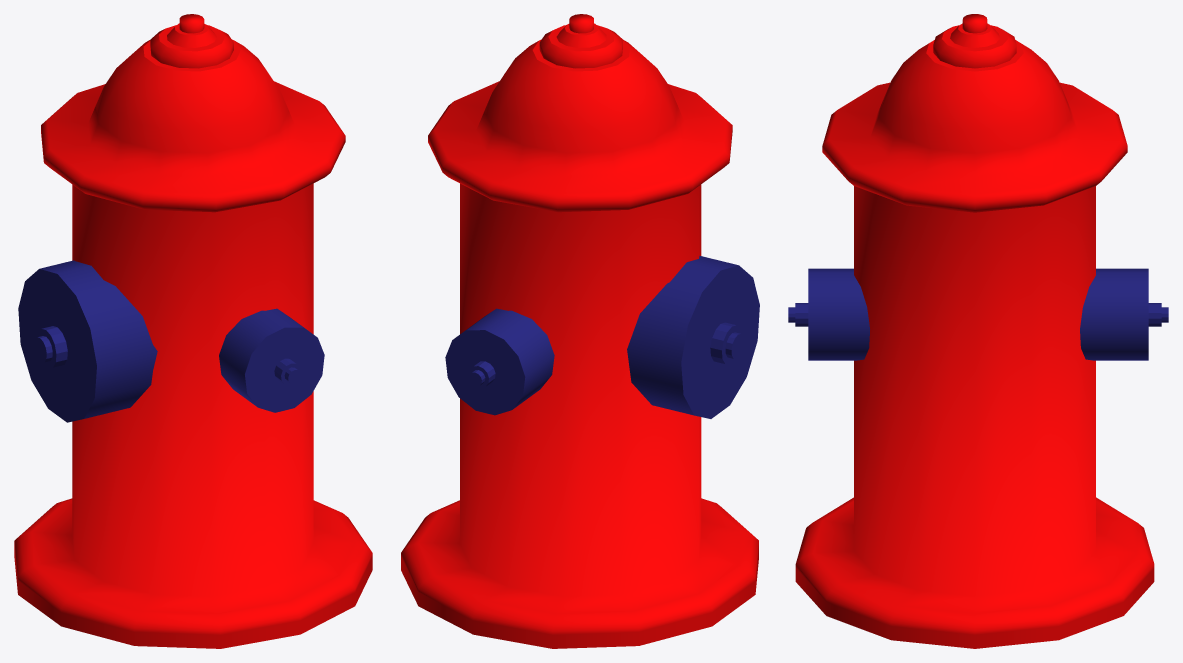
Rendered from FireHydrant.FBX.
3 views of the same model, side by side, from view 1: azimuth 30°, elevation 25°; view 2: azimuth 150°, elevation 25°; view 3: azimuth 270°, elevation 25° (orthographic).
Visible parts, largest first — view 1: Cylinder001; view 2: Cylinder001; view 3: Cylinder001.
Boxes of the visible parts, bbox=[...] form: Cylinder001: bbox=[14, 14, 372, 648]; Cylinder001: bbox=[401, 14, 759, 648]; Cylinder001: bbox=[788, 14, 1168, 648].
Size of the model in its own units: 23.7 by 40.41 by 25.17.
